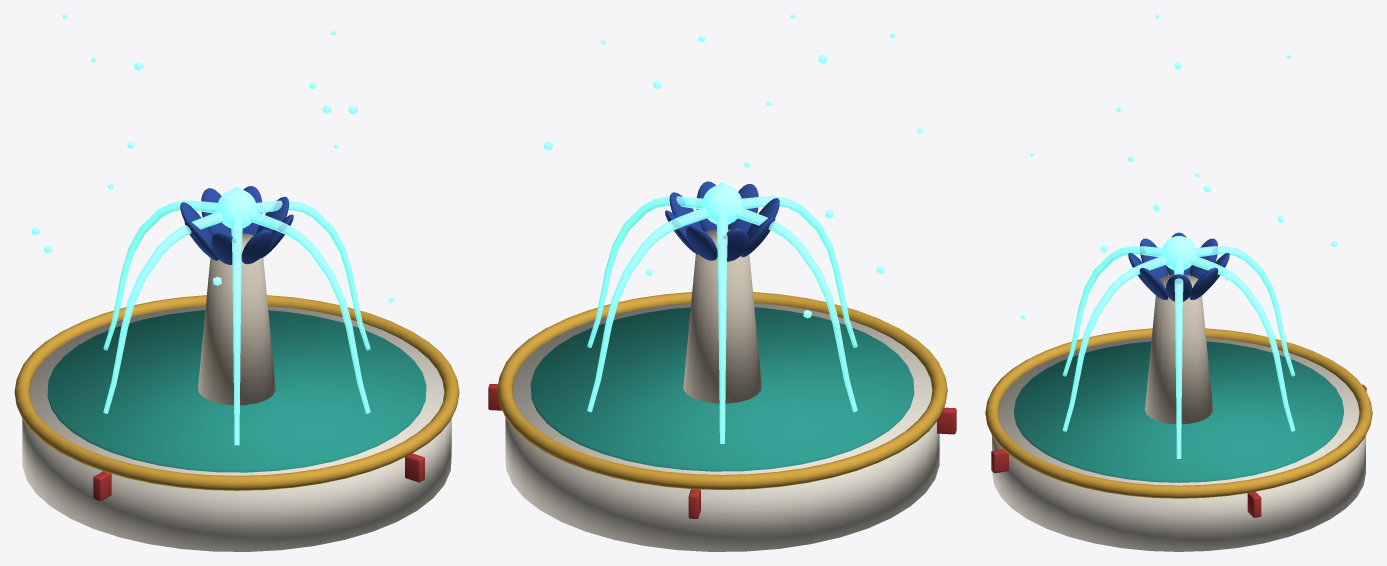
File: fontaine.glb
The picture shows the model from 3 angles, left to right: view 1: azimuth 30°, elevation 25°; view 2: azimuth 150°, elevation 25°; view 3: azimuth 270°, elevation 25°; orthographic projection. The views are drawn at different scales.
Parts seen in each view (by area): view 1: turq, marble, gold, ether_soft, marble2, lapis, ether, team; view 2: turq, marble, gold, ether_soft, marble2, lapis, ether, team; view 3: turq, marble, gold, ether_soft, marble2, lapis, ether, team.
Boxes of the visible parts, box(x1,y1,x2,y2) form: turq: box(47, 310, 426, 472); marble: box(22, 306, 451, 551); gold: box(14, 295, 459, 490); ether_soft: box(103, 187, 370, 445); marble2: box(198, 233, 275, 405); lapis: box(180, 186, 293, 264); ether: box(31, 14, 394, 302); team: box(93, 453, 424, 500); turq: box(530, 307, 914, 471); marble: box(505, 303, 939, 551); gold: box(497, 292, 947, 489); ether_soft: box(587, 182, 857, 443); marble2: box(683, 229, 761, 403); lapis: box(665, 181, 779, 261); ether: box(544, 14, 922, 318); team: box(488, 384, 956, 518); turq: box(1014, 341, 1343, 482); marble: box(992, 337, 1365, 551); gold: box(985, 328, 1372, 498); ether_soft: box(1062, 246, 1295, 458); marble2: box(1145, 274, 1212, 424); lapis: box(1128, 232, 1229, 301); ether: box(1020, 14, 1337, 319); team: box(991, 384, 1366, 517).
Size of the model in its own units: 1.76 by 1.97 by 1.76.
